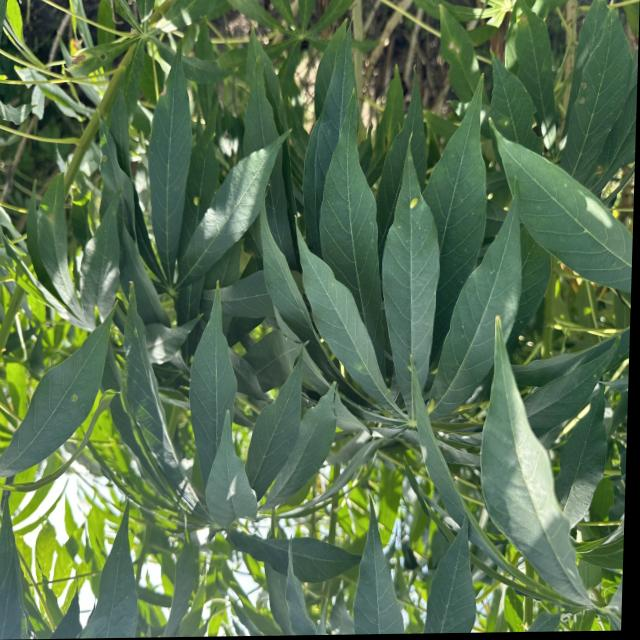Mosca: (401, 345, 436, 376), (56, 388, 84, 416), (401, 188, 427, 215), (183, 185, 210, 208), (478, 186, 502, 209), (325, 437, 347, 460), (414, 403, 440, 414)
